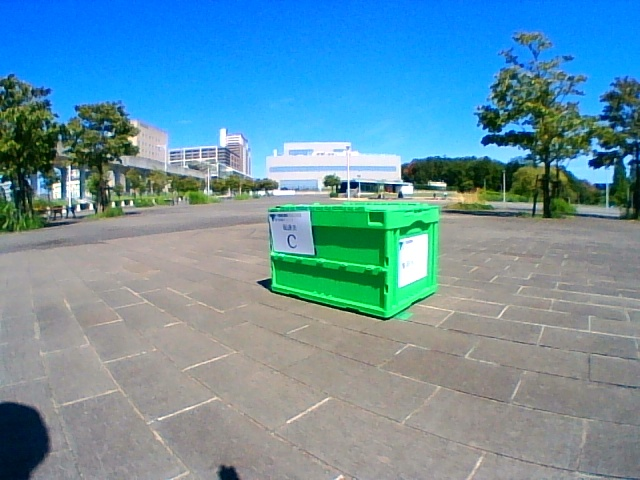green_box: (268, 201, 438, 319)
tag_c: (273, 212, 311, 252)
